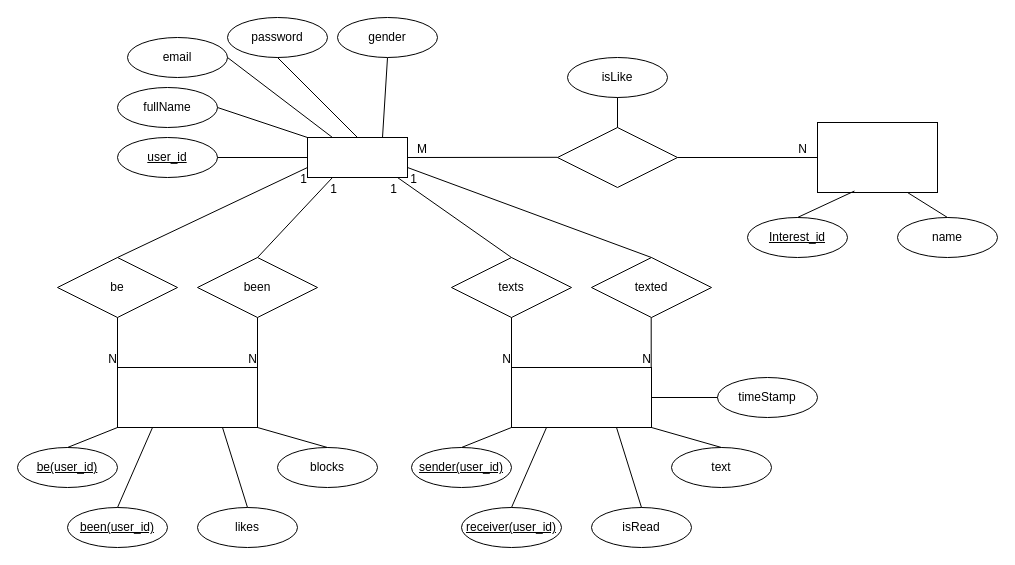
Image size: 1015x565. Some labels were removed from this diagram. The shapes that lost their labels are listed below. From the top down, each one's box as (x1, y1, x2, y2) in pixels, then its label:
(306, 136, 408, 178): User
(556, 126, 678, 188): like
(816, 122, 938, 192): INTEREST
(116, 366, 258, 428): ITEM_BE
(510, 366, 652, 428): ITEM_TEXT
